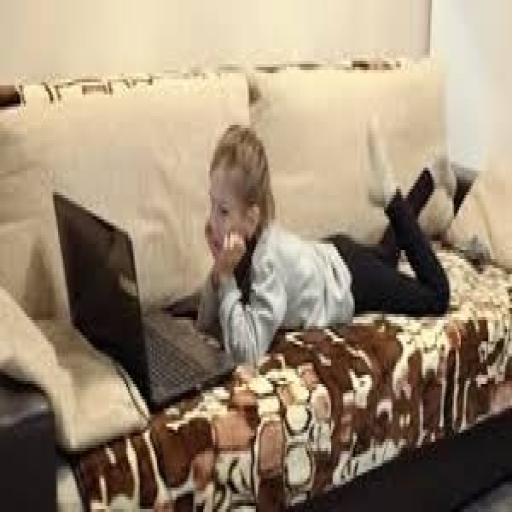using_laptop: (50, 183, 236, 411)
